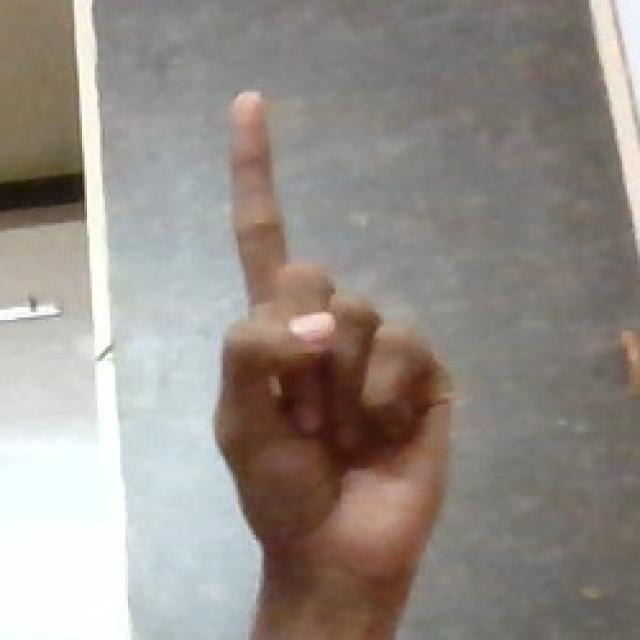Numeric-1: (210, 88, 451, 628)
